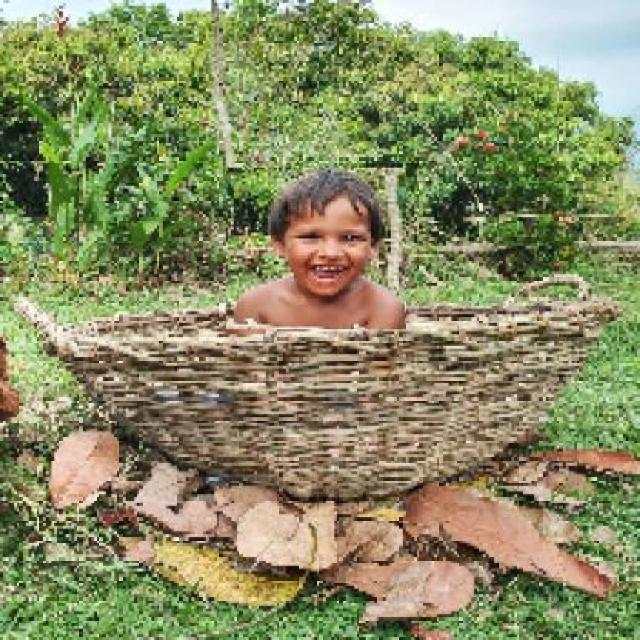child: (225, 168, 406, 332)
